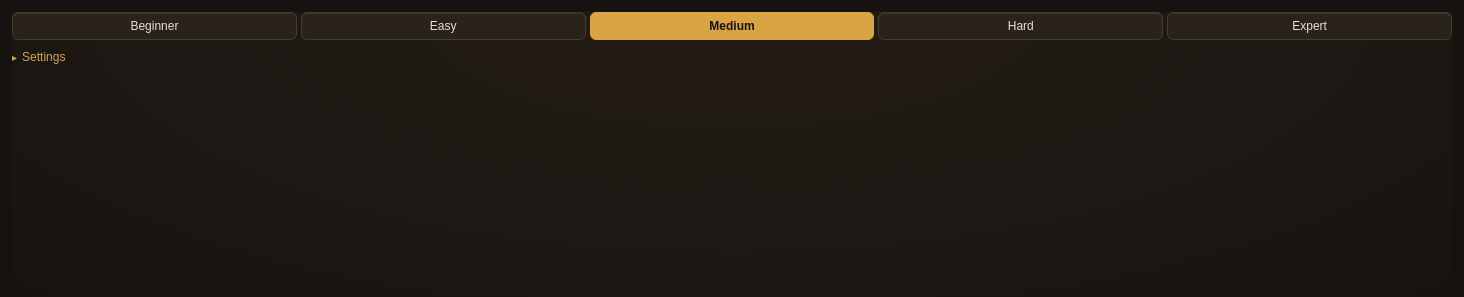
Test: DifficultyControl › goes back to a preset name when the raw slider lands on one
This screenshot has width=1464, height=297.
Click the button "▸ Settings".
click(39, 57)  # box [12,50,65,64]
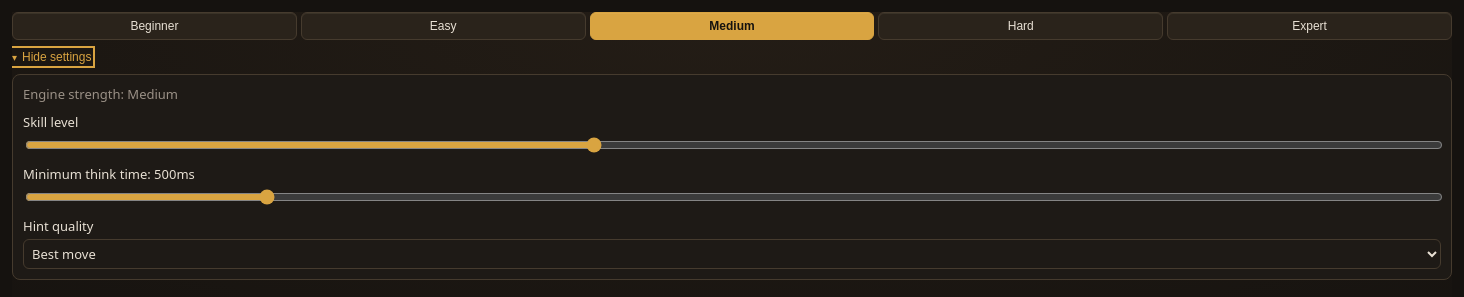
Set the slider labelled "Skill level" to "10" at (734, 145), box [25,137,1443,153]
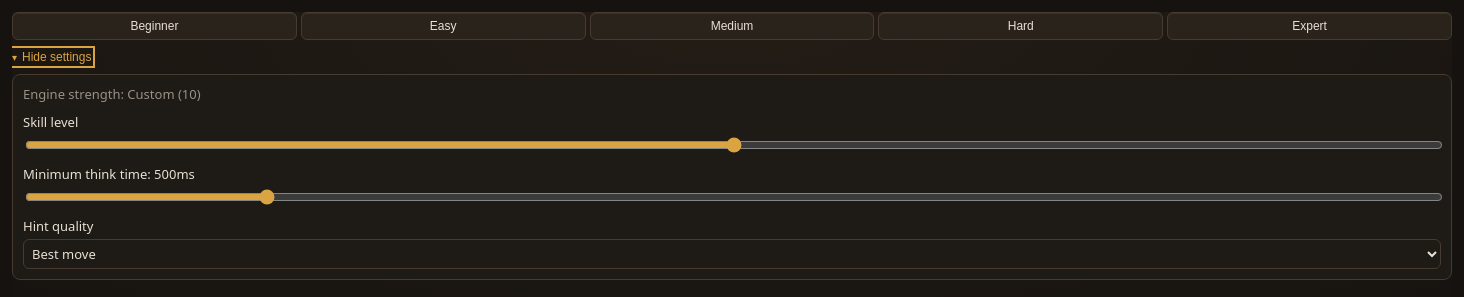
Check: the text "Engine strength: Custom (10)" is shown, box [23,85,201,103]
Set the slider labelled "Skill level" to "13" at (944, 145), box [25,137,1443,153]
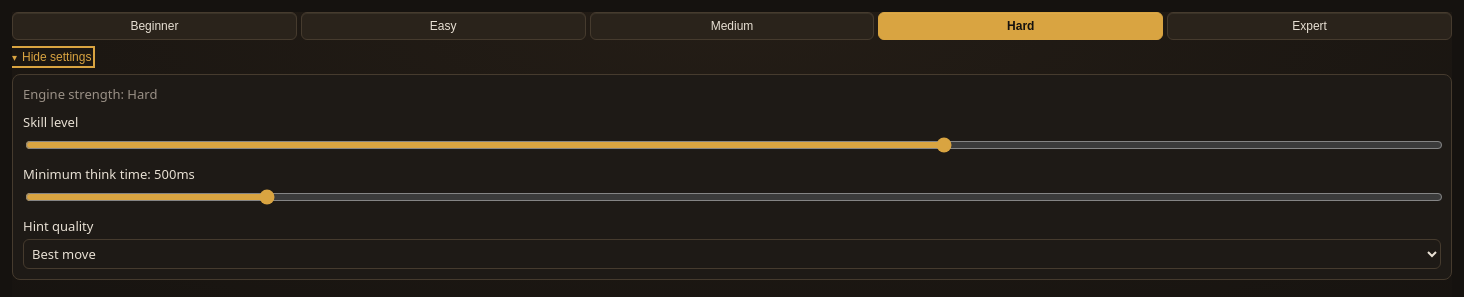
Check: the text "Custom" is gone
Check: the text "Engine strength: Hard" is shown, box [23,85,157,103]
